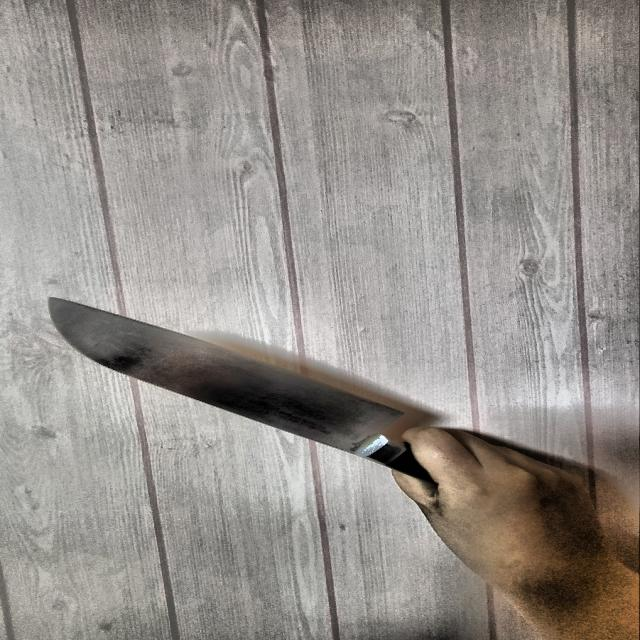knife: (42, 293, 610, 563)
